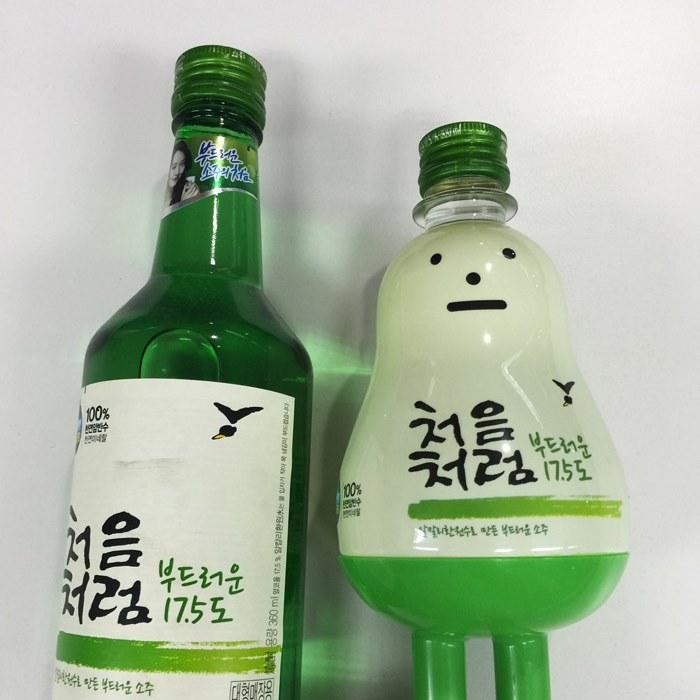soju: (51, 34, 634, 700)
